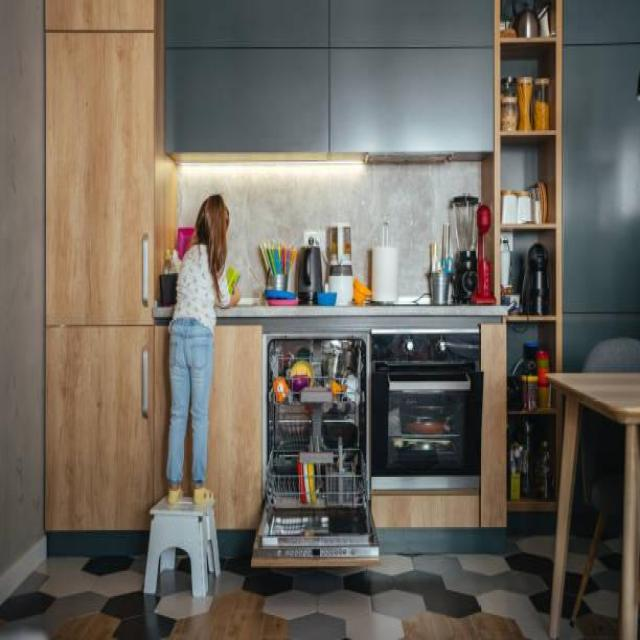dishwasher: (250, 314, 386, 574)
